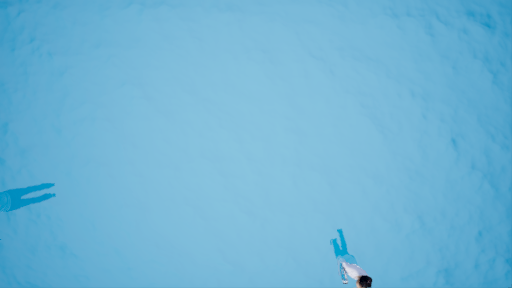person: (311, 220, 380, 288)
